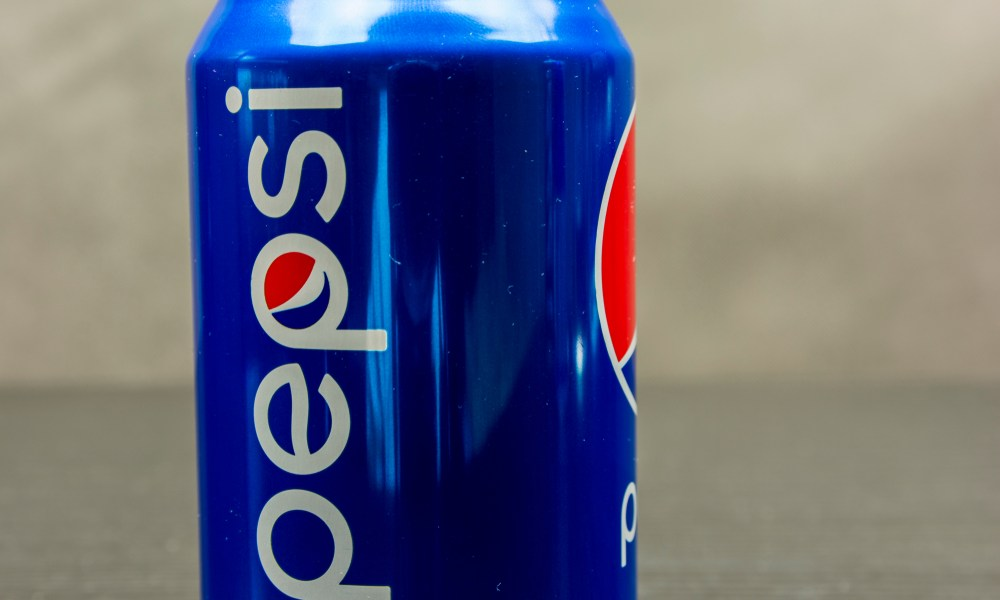pepsi: (260, 248, 330, 331)
